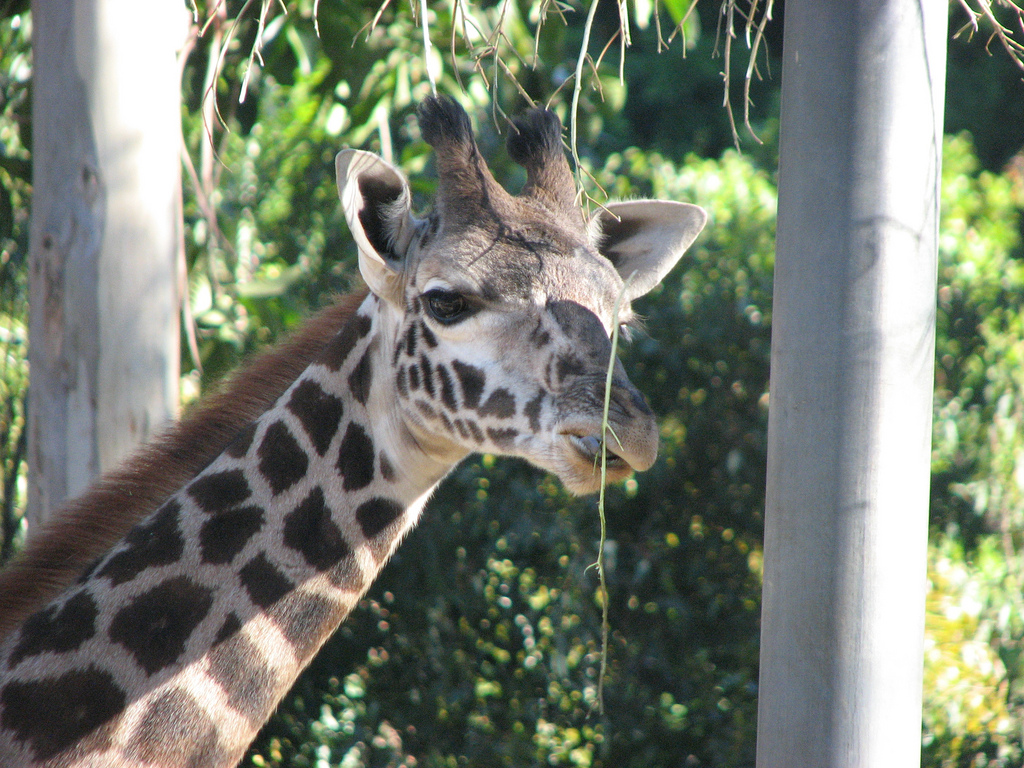giraffe: (84, 101, 738, 730)
